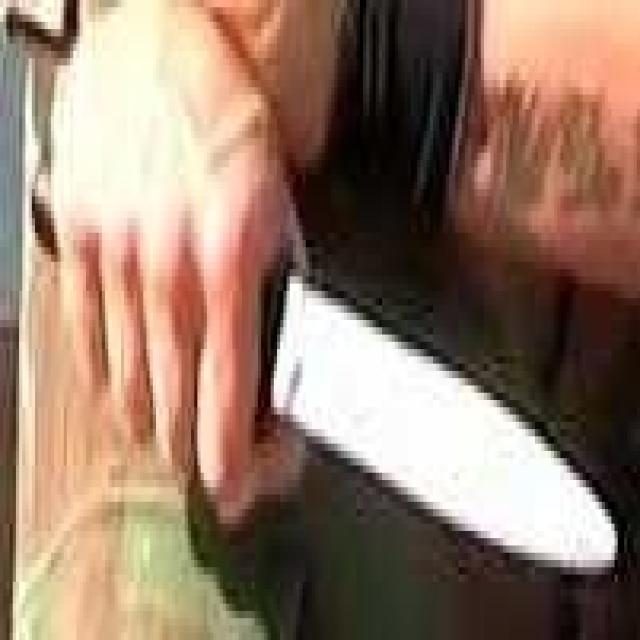Knife: (15, 131, 623, 590)
